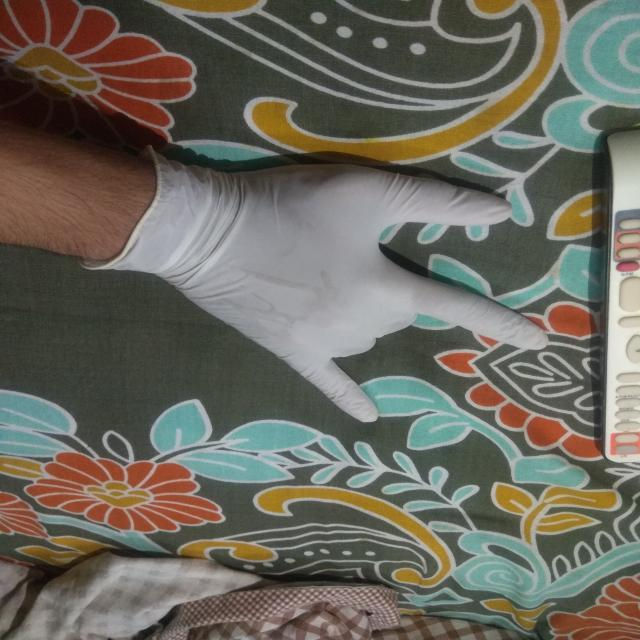gloved_hand: (72, 117, 554, 428)
